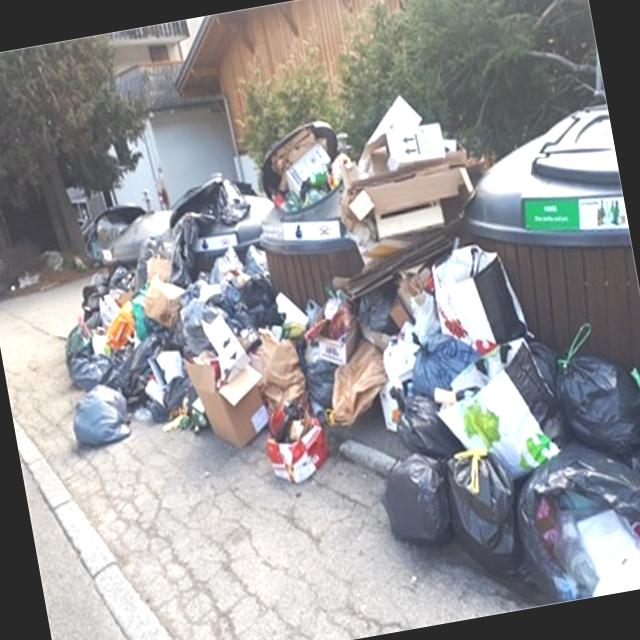garbage: (29, 82, 640, 640)
